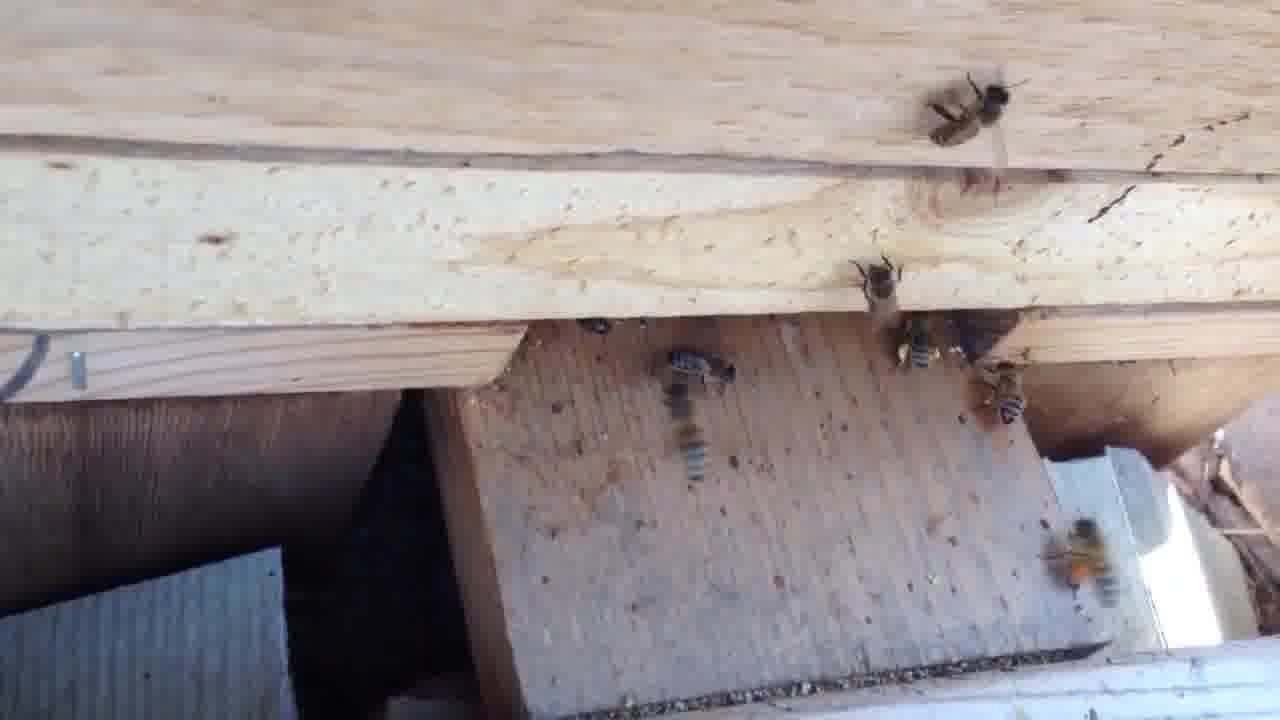pollen: (1066, 518, 1126, 614), (895, 317, 946, 377)
